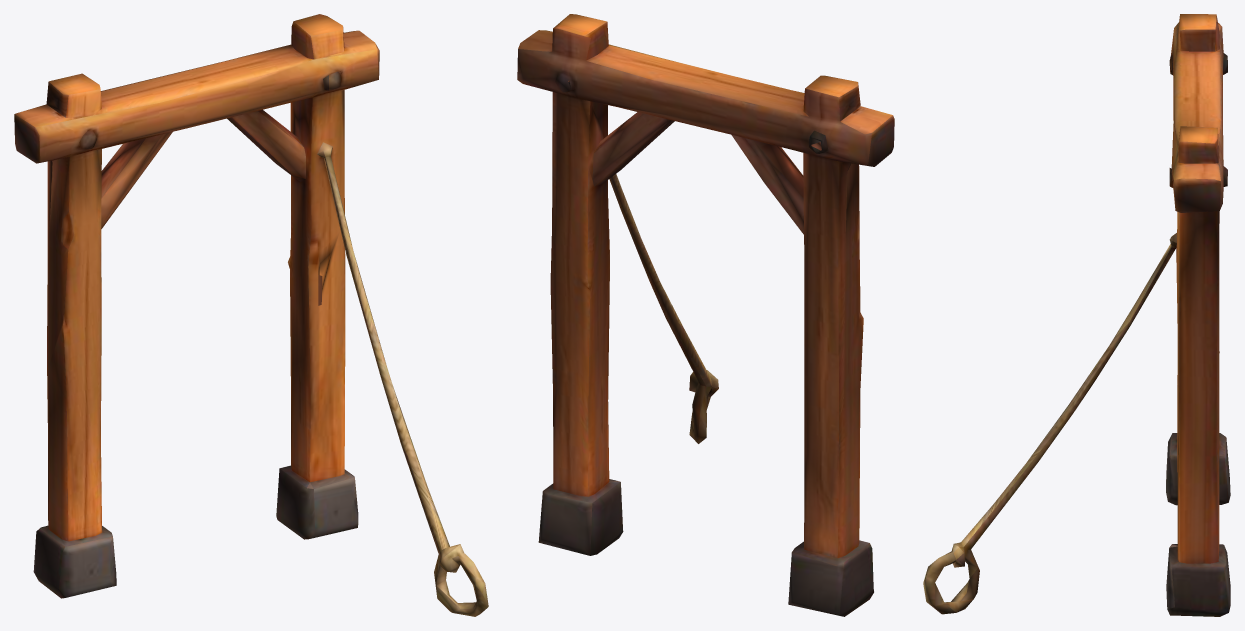
Rendered from lg-gallows.glb.
3 views of the same model, side by side, from view 1: azimuth 30°, elevation 25°; view 2: azimuth 150°, elevation 25°; view 3: azimuth 270°, elevation 25° (orthographic). The views are drawn at different scales.
Visible parts, largest first — view 1: geometry_0; view 2: geometry_0; view 3: geometry_0.
Boxes of the visible parts, x1=… form: geometry_0: x1=14, y1=14, x2=488, y2=616; geometry_0: x1=517, y1=14, x2=894, y2=616; geometry_0: x1=923, y1=14, x2=1230, y2=616.
Bounding box in the file's own units: 0.7201 × 1 × 0.5894.
1 material, 1 textured.
